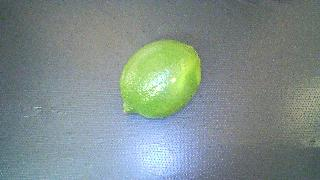EXPORTACION: (120, 40, 201, 118)
